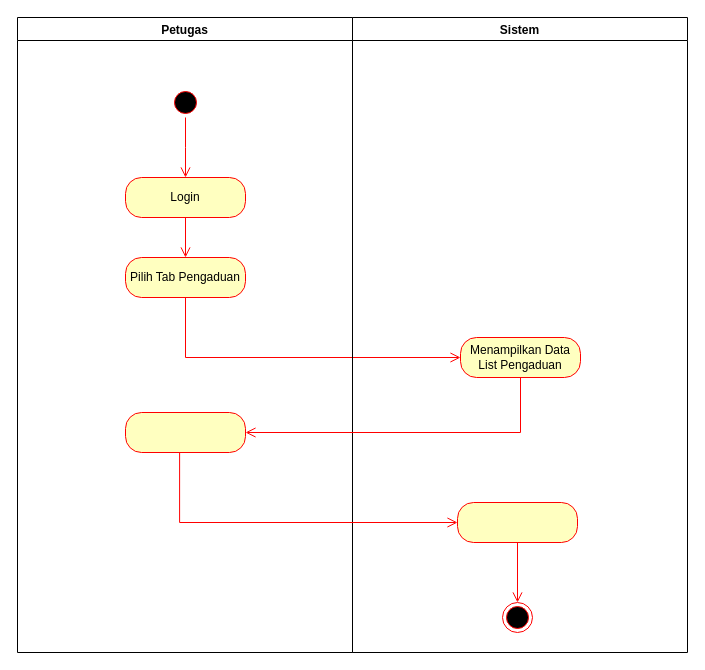
Some shapes in this 705 by 670 pixel diagram are drawn without their labels. The centre of each missing label's shape, as x and y in pixels:
"Cek Detail Pengaduan" belongs at (185,432).
"Menampilkan Detail Pengaduan" belongs at (517,522).
